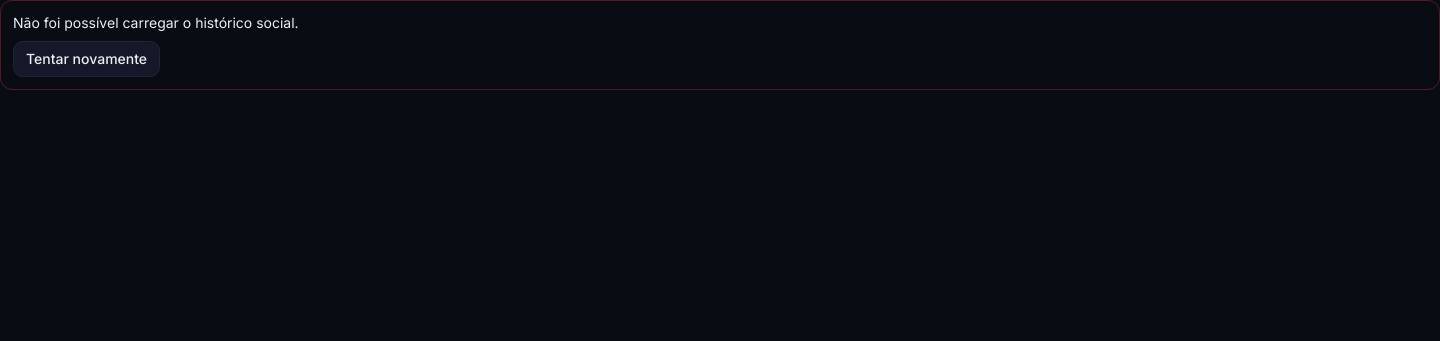
Scenario: Consumidores do histórico social › distingue erro de vazio e permite nova tentativa: painel
expect the message shows "Não foi possível carregar o histórico social.": met, box [13,14,299,31]
Click the button "Tentar novamente": coordinates (87, 59) [13,41,160,77]
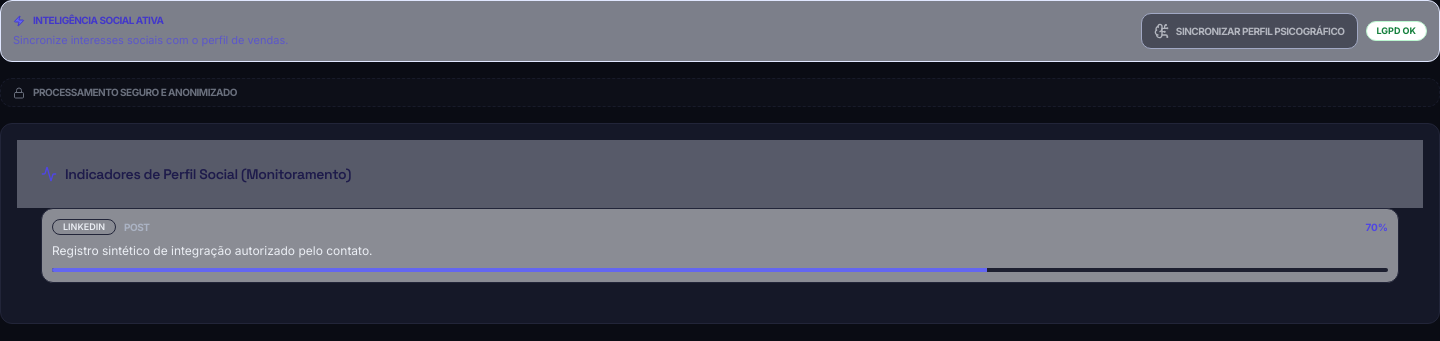
expect the text "Registro sintético de integração autorizado pelo contato." is shown: met, box [52,243,373,258]
expect the message "Não foi possível carregar o histórico social. Tentar novamente" is gone: met
